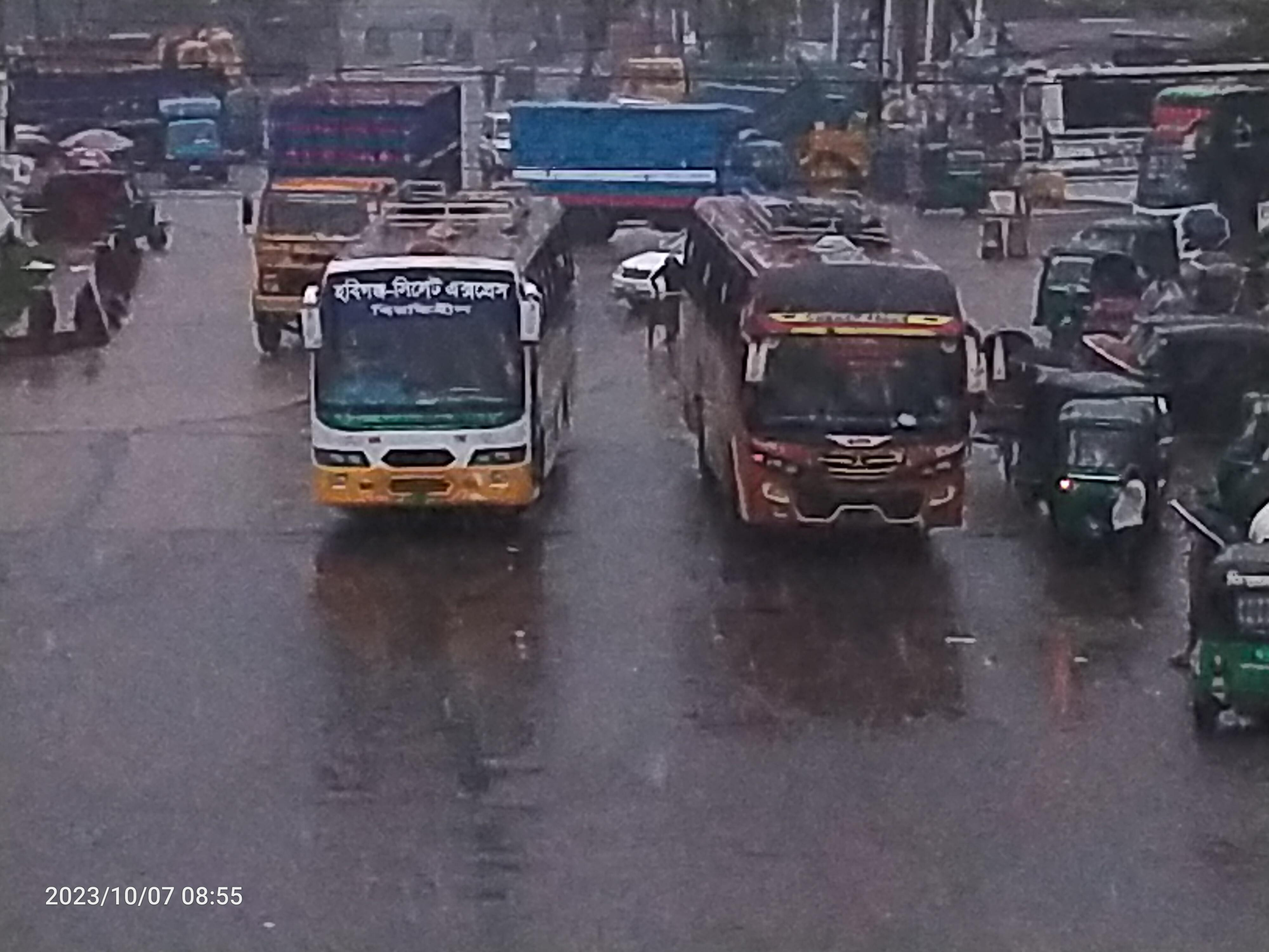Bus: (659, 186, 1000, 589), (290, 180, 607, 544), (1002, 53, 1269, 229)
Car: (154, 71, 242, 192)
Truck: (219, 57, 492, 367), (486, 83, 823, 243)
